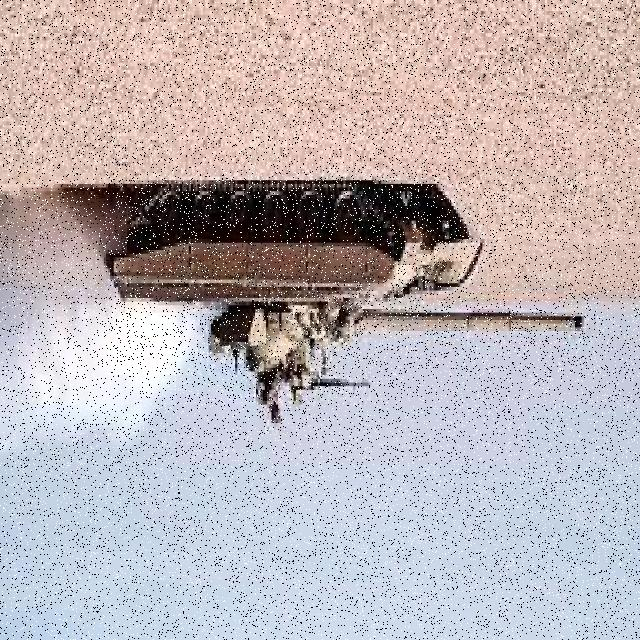MIL_MBT: (110, 175, 588, 377)
